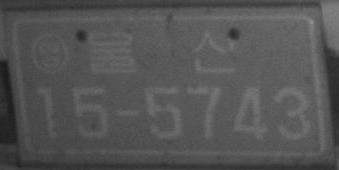-: (113, 106, 140, 120)
1: (30, 86, 61, 137)
3: (273, 85, 311, 141)
4: (231, 85, 268, 141)
5: (143, 83, 183, 140), (69, 84, 108, 141)
7: (186, 83, 221, 139)
영: (30, 31, 68, 75)
울산_D: (87, 26, 239, 74)
